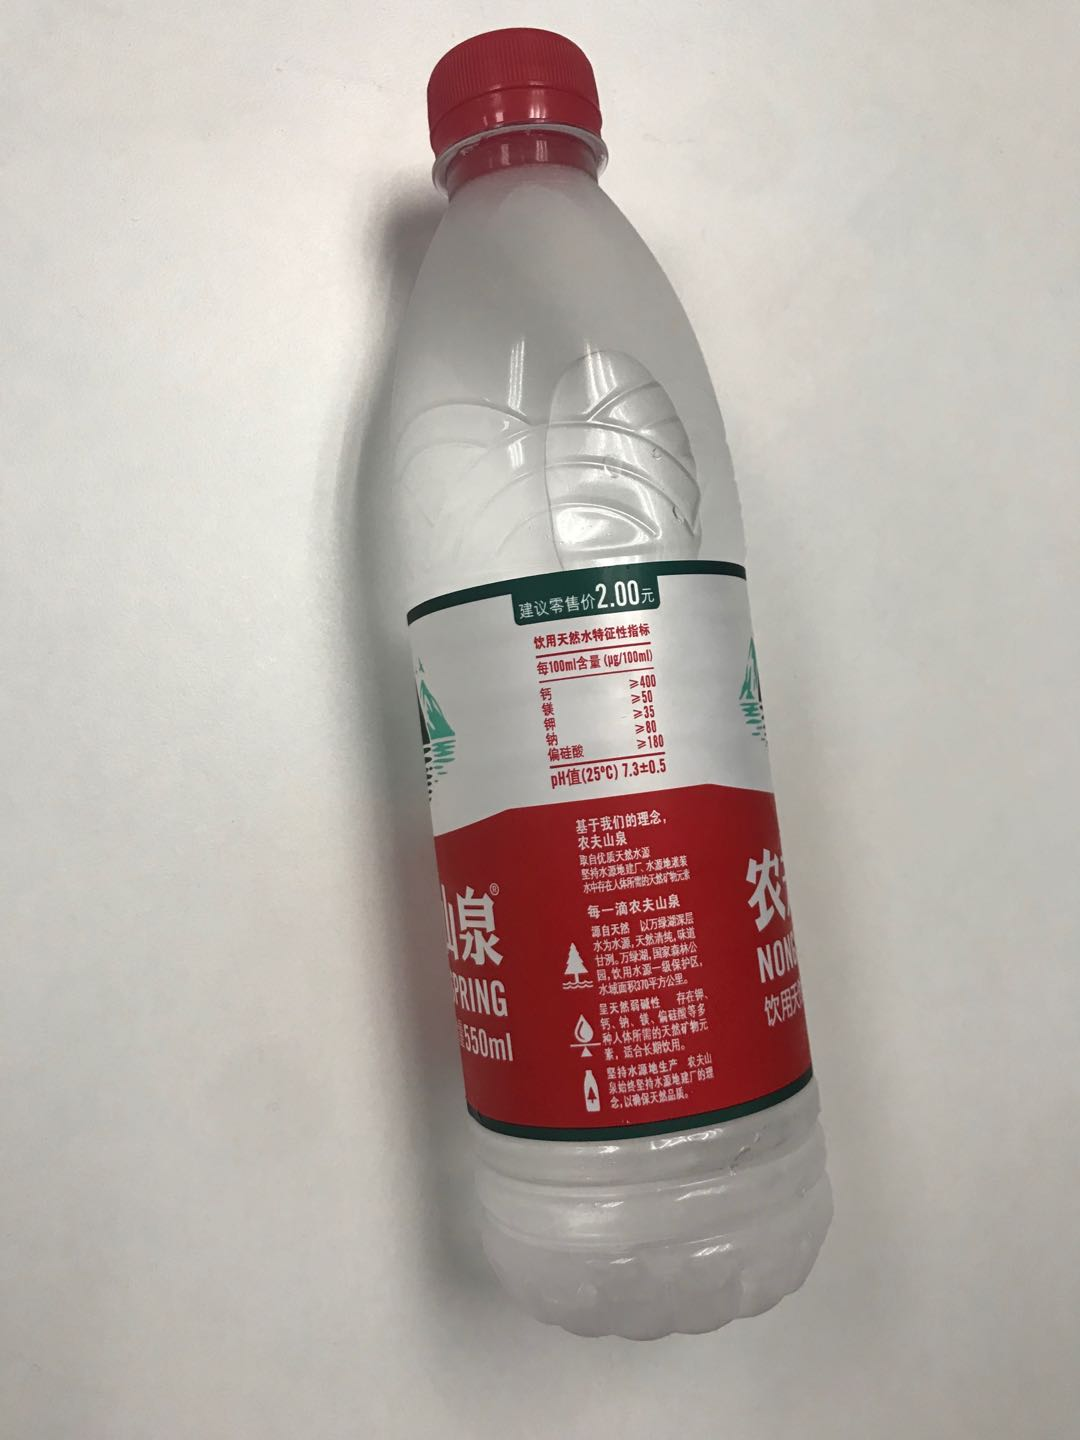农夫山泉: (340, 37, 839, 1340)
